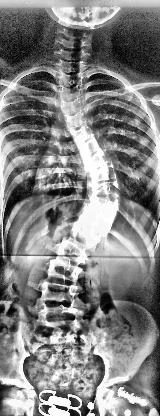Vertebrae: (36, 301, 84, 328), (54, 239, 90, 263), (46, 260, 84, 282), (40, 282, 78, 304), (67, 222, 105, 242), (76, 209, 112, 228), (85, 192, 118, 212), (88, 161, 116, 181), (88, 178, 119, 196), (57, 70, 85, 88), (74, 138, 102, 156), (56, 84, 84, 100), (64, 111, 92, 127), (80, 150, 108, 166), (60, 98, 84, 115), (68, 127, 94, 142)
